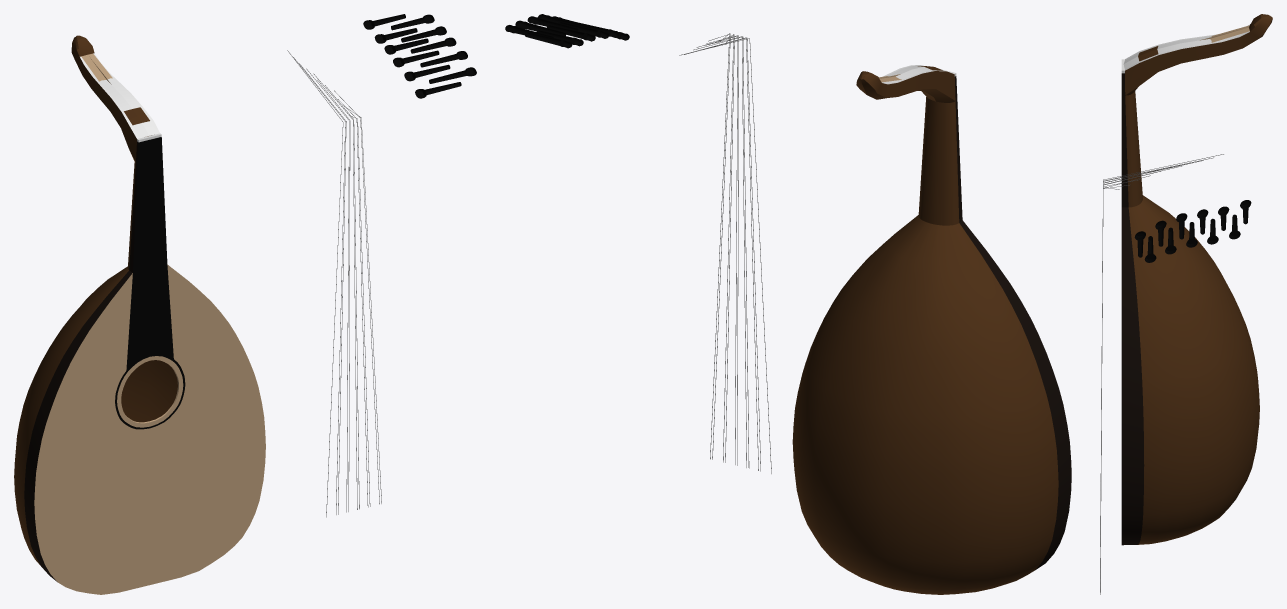
Rendered from oud.glb.
The picture shows the model from 3 angles, left to right: view 1: azimuth 30°, elevation 25°; view 2: azimuth 150°, elevation 25°; view 3: azimuth 270°, elevation 25°; orthographic projection. The views are drawn at different scales.
Parts seen in each view (by area): view 1: table, strings, chevilles; view 2: table, strings, chevilles; view 3: table, chevilles, strings.
Part boxes in pixels (x1,y1,x2,y2): table: [14, 35, 265, 594]; strings: [287, 50, 381, 517]; chevilles: [363, 14, 476, 98]; table: [792, 65, 1071, 594]; strings: [679, 33, 771, 473]; chevilles: [505, 14, 629, 48]; table: [1121, 14, 1272, 545]; chevilles: [1134, 200, 1251, 262]; strings: [1100, 154, 1223, 594].
Bounding box in the file's own units: 0.815 × 0.8481 × 0.2627.
